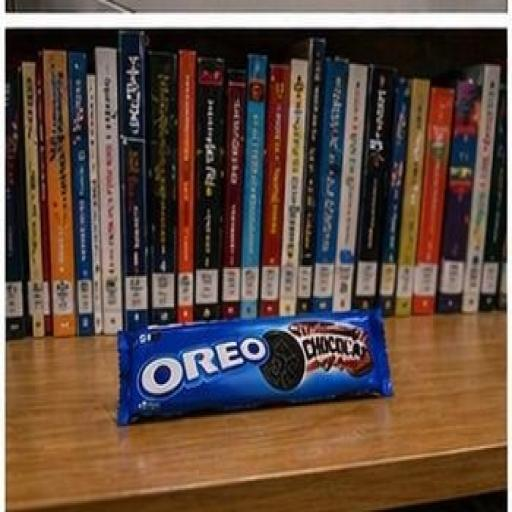oreo: (78, 272, 431, 466)
